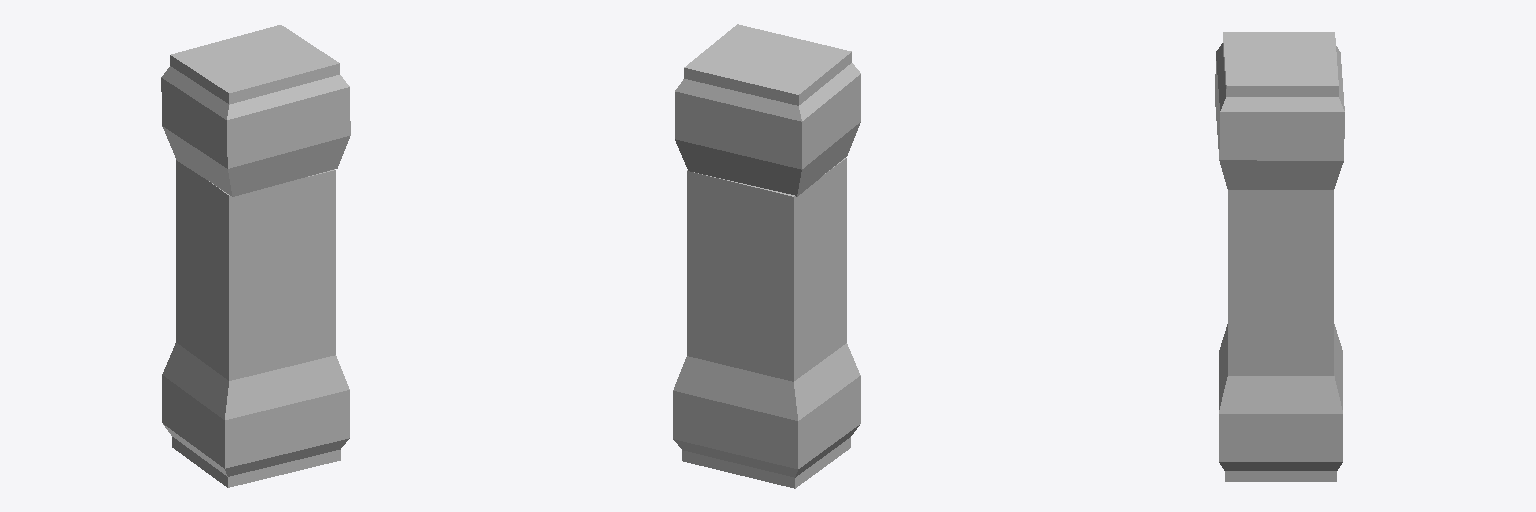
Rendered from Lampert.obj.
3 views of the same model, side by side, from view 1: azimuth 30°, elevation 25°; view 2: azimuth 150°, elevation 25°; view 3: azimuth 270°, elevation 25° (orthographic).
Visible parts, largest first — view 1: Cube; view 2: Cube; view 3: Cube.
Part boxes in pixels (bbox=[...]): Cube: bbox=[161, 25, 350, 487]; Cube: bbox=[673, 24, 860, 488]; Cube: bbox=[1215, 32, 1344, 481].
Size of the model in its own units: 3.14 by 9.24 by 2.74.